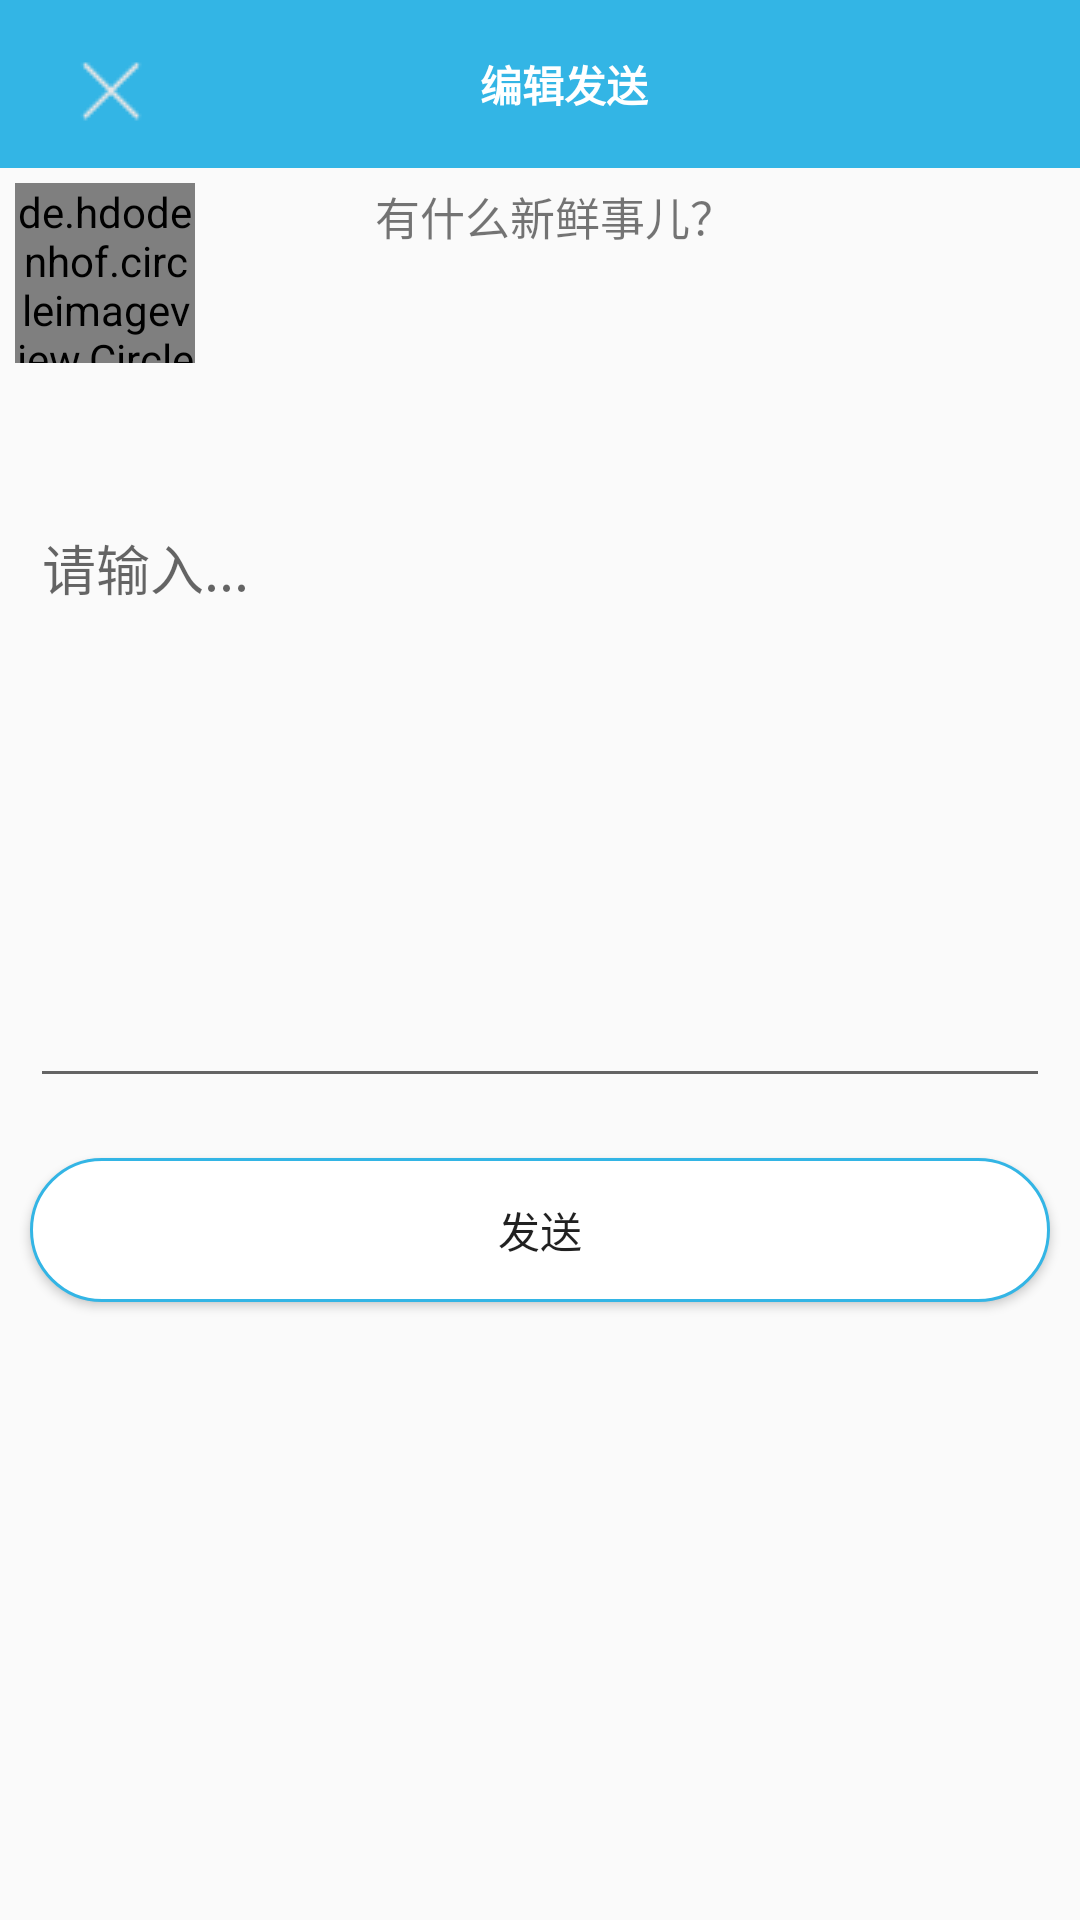

Icons on this 1080px×1920px Android screen, each with the point to tap as [x,y]:
exit: [111,91]
